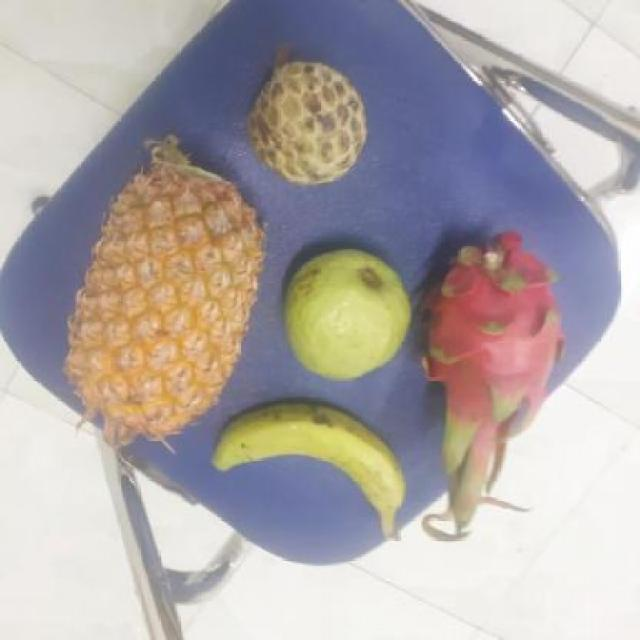banana: (208, 401, 402, 525)
dragon fruit: (410, 239, 564, 466)
guava: (276, 249, 412, 380)
pineapple: (57, 152, 265, 438)
sugar apple: (241, 61, 367, 187)
